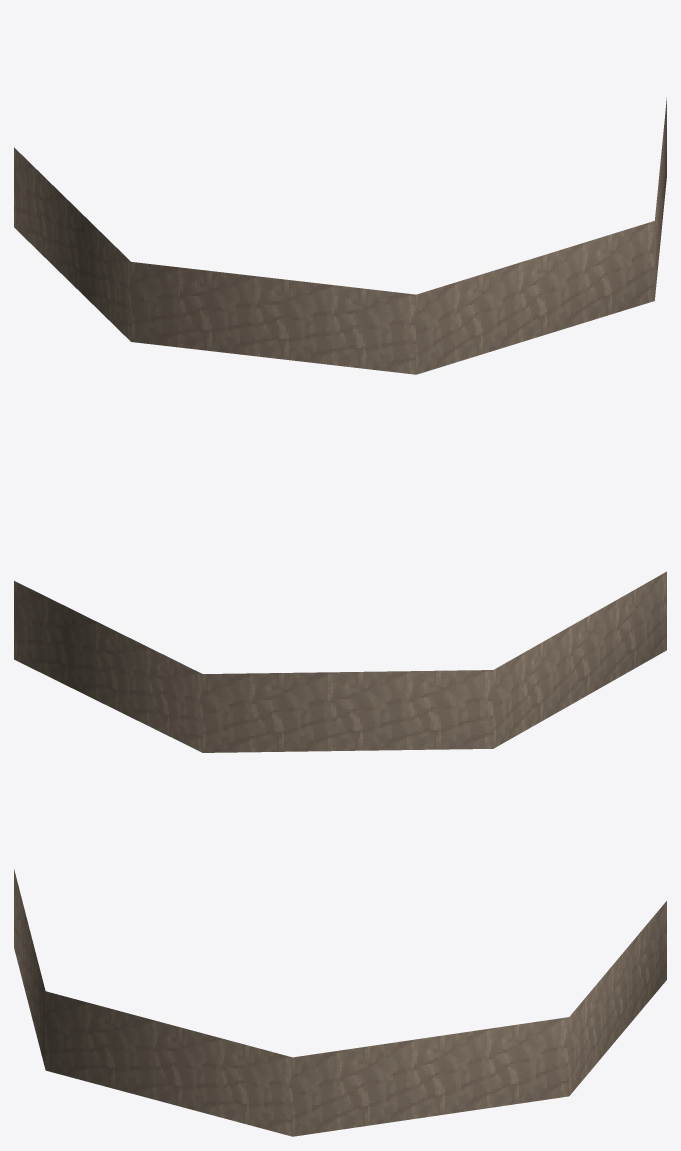
Rendered from kd_connection_world-outer_surface_13_1.glb.
3 renders of one model, top to bottom at view 1: azimuth 30°, elevation 25°; view 2: azimuth 150°, elevation 25°; view 3: azimuth 270°, elevation 25°, orthographic.
Parts seen in each view (by area): view 1: kd_connection_world-outer_surface_13_1; view 2: kd_connection_world-outer_surface_13_1; view 3: kd_connection_world-outer_surface_13_1.
Boxes of the visible parts, x1,y1,x2,y2 form: kd_connection_world-outer_surface_13_1: (14,98,666,374); kd_connection_world-outer_surface_13_1: (14,571,666,752); kd_connection_world-outer_surface_13_1: (14,869,666,1136).
Bounding box in the file's own units: 189 × 25.3 × 189.
Materials: 1 (1 with a texture image).
